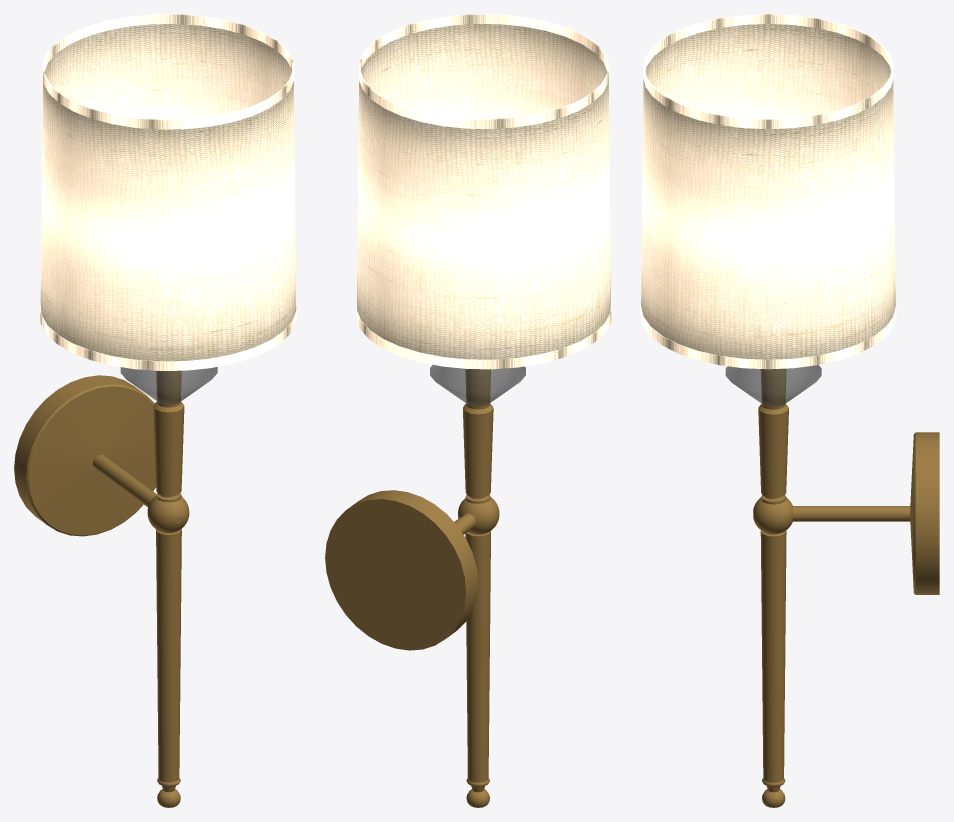
Rendered from CGT_Wall-Light_10_001.fbx.
3 views of the same model, side by side, from view 1: azimuth 30°, elevation 25°; view 2: azimuth 150°, elevation 25°; view 3: azimuth 270°, elevation 25° (orthographic).
Parts seen in each view (by area): view 1: CGT_Wall-Light_10_001; view 2: CGT_Wall-Light_10_001; view 3: CGT_Wall-Light_10_001.
Boxes of the visible parts, bbox=[...] form: CGT_Wall-Light_10_001: bbox=[14, 14, 296, 807]; CGT_Wall-Light_10_001: bbox=[325, 14, 611, 807]; CGT_Wall-Light_10_001: bbox=[640, 14, 939, 807].
Size of the model in its own units: 18.31 by 21.4 by 58.19.
4 materials, 1 textured.
